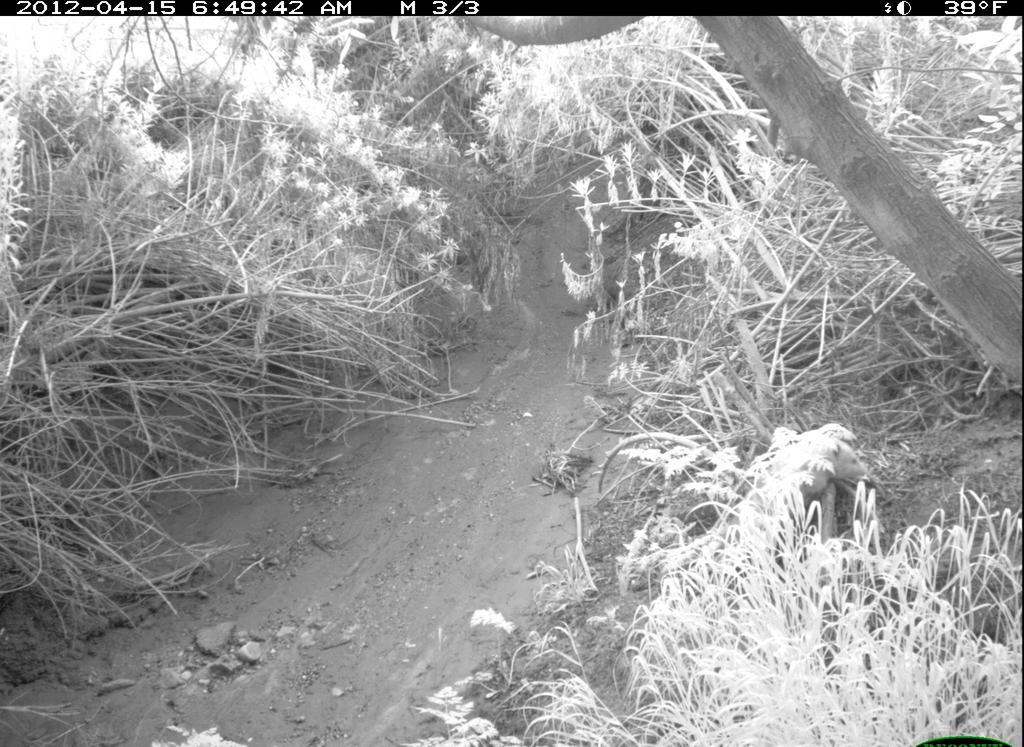opossum: (731, 410, 876, 548)
